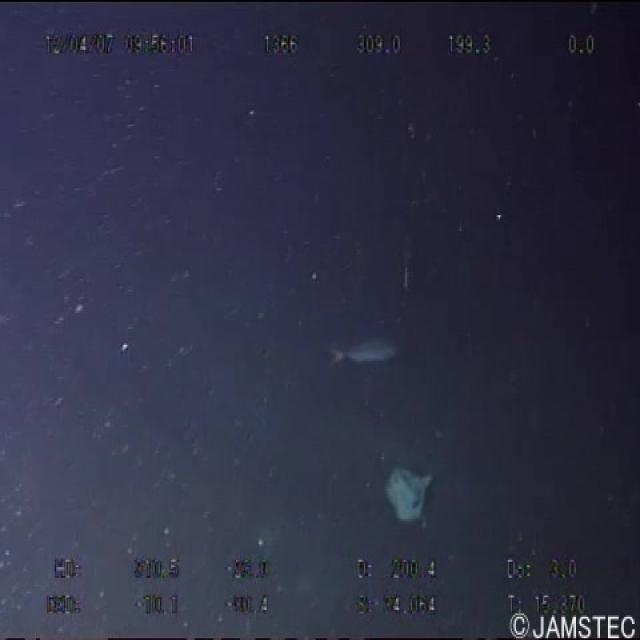plastic: (378, 457, 438, 526)
